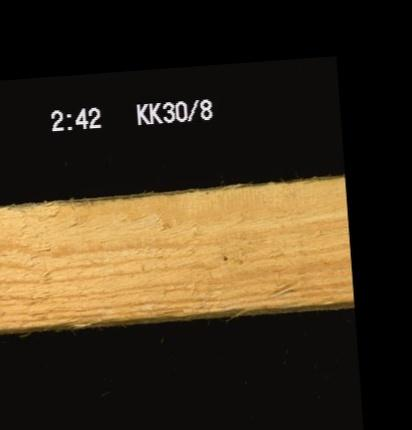small_knot: (216, 249, 232, 264)
